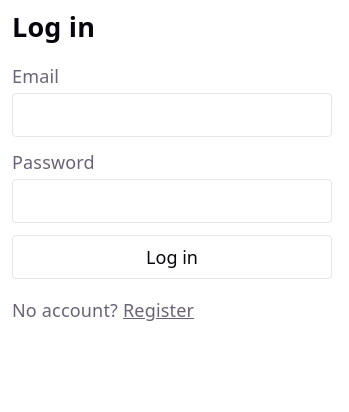
Test case: LoginPage › shows an error message and stays on the page when login fails
Type "trainer@example.com" into the field labelled "Email" at (172, 115), box left=12, top=93, right=332, bottom=137
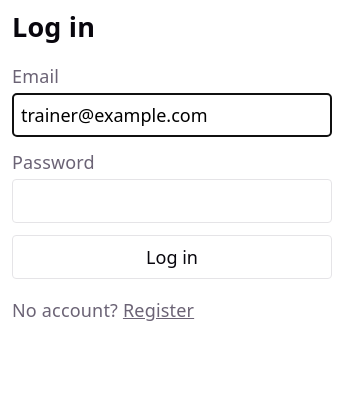
Type "Password123!" into the password field labelled "Password" at (172, 201), box left=12, top=179, right=332, bottom=223
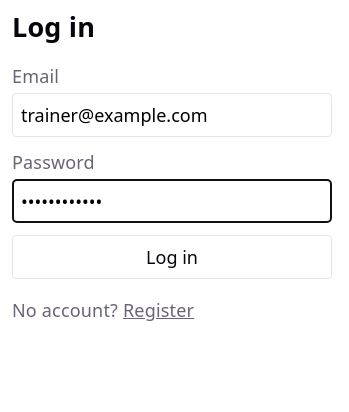
Click the button "Log in" at (172, 257), box left=12, top=235, right=332, bottom=279
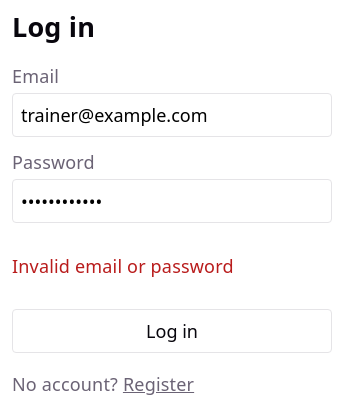
Check: the button "Log in" is shown, box left=12, top=309, right=332, bottom=354
Check: the message reads "Invalid email or password", box left=12, top=254, right=234, bottom=278
